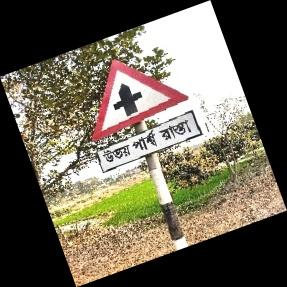Crossroad: (91, 58, 201, 178)
